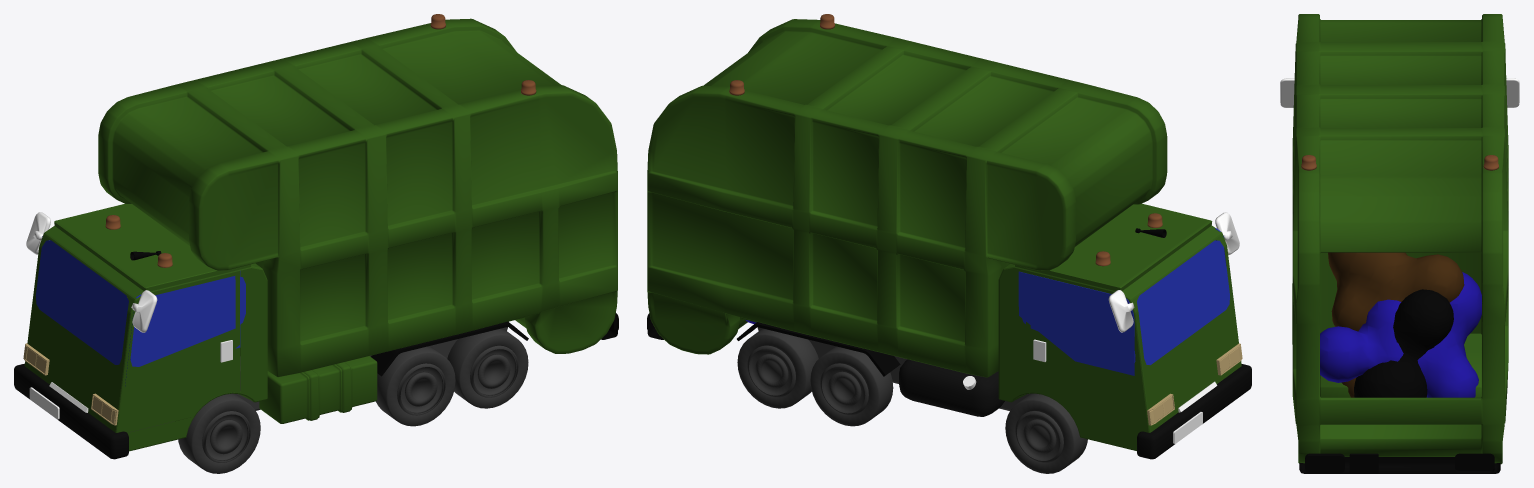
Rendered from truck.fbx.
The picture shows the model from 3 angles, left to right: view 1: azimuth 30°, elevation 25°; view 2: azimuth 150°, elevation 25°; view 3: azimuth 270°, elevation 25°; orthographic projection.
Parts seen in each view (by area): view 1: Cube.007; view 2: Cube.007; view 3: Cube.007.
Boxes of the visible parts, box(x1,y1,x2,y2) form: Cube.007: box(14, 14, 618, 473); Cube.007: box(647, 14, 1251, 473); Cube.007: box(1280, 14, 1519, 473).
Bounding box in the file's own units: 51.59 × 30.35 × 20.72.
